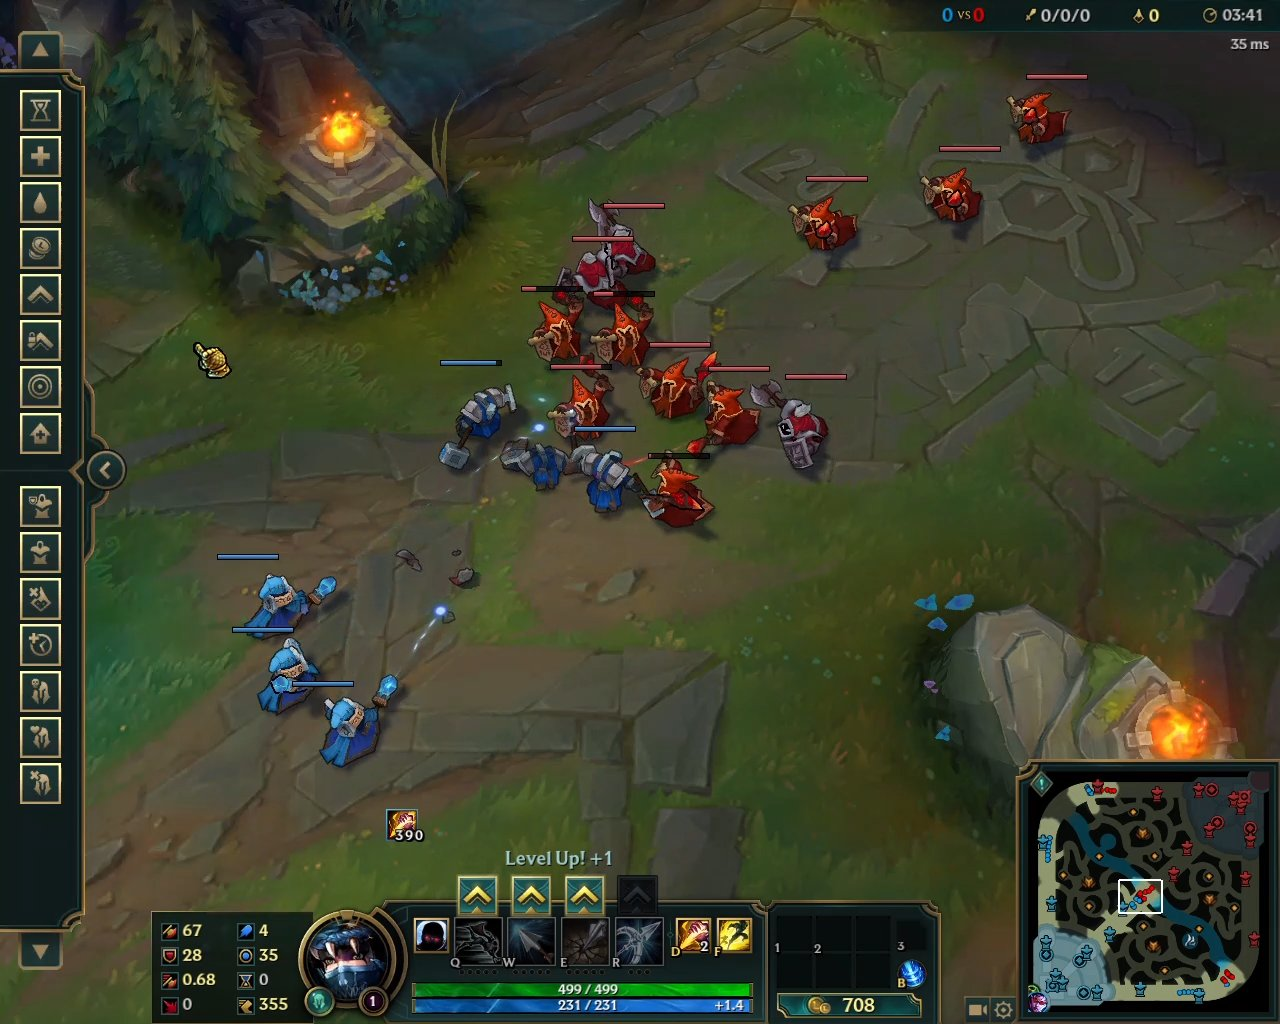EnemyMinion: (746, 373, 850, 469), (685, 365, 771, 456), (636, 338, 715, 421), (784, 176, 867, 254), (920, 145, 1000, 223), (635, 452, 712, 534), (591, 197, 666, 278), (1006, 74, 1088, 147), (549, 360, 612, 444), (563, 236, 633, 309), (522, 285, 589, 360), (597, 290, 655, 370)
